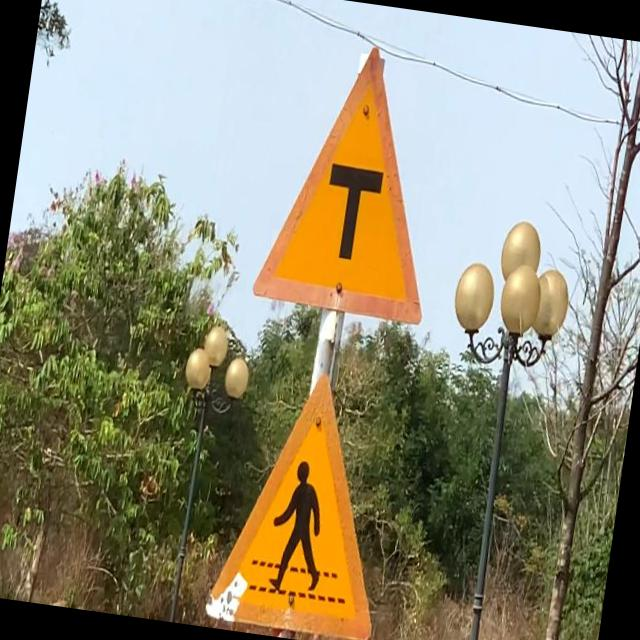W-205d: (250, 30, 460, 328)
W-224: (208, 358, 409, 640)
